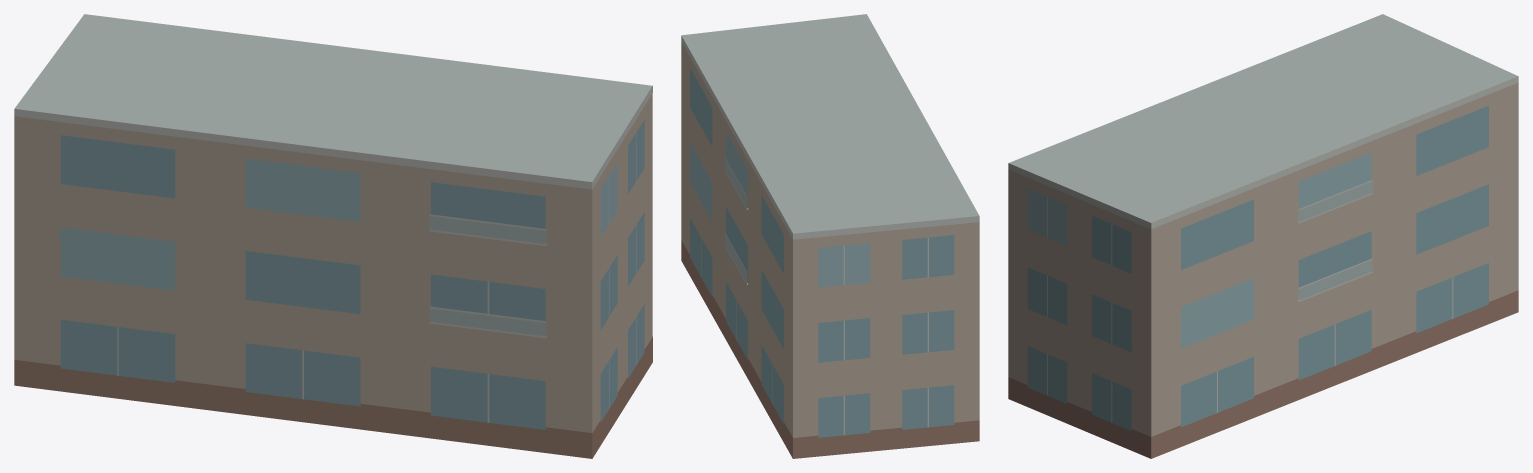
The model's file is survey-upis-32686916.glb.
3 views of the same model, side by side, from view 1: azimuth 30°, elevation 25°; view 2: azimuth 150°, elevation 25°; view 3: azimuth 270°, elevation 25° (orthographic). The views are drawn at different scales.
Parts seen in each view (by area): view 1: survey-upis-32686916.tmp; view 2: survey-upis-32686916.tmp; view 3: survey-upis-32686916.tmp.
Part boxes in pixels (x1=…): survey-upis-32686916.tmp: x1=14, y1=14, x2=652, y2=458; survey-upis-32686916.tmp: x1=681, y1=14, x2=979, y2=458; survey-upis-32686916.tmp: x1=1008, y1=14, x2=1518, y2=458.
Size of the model in its own units: 17.4 by 9.15 by 17.94.
